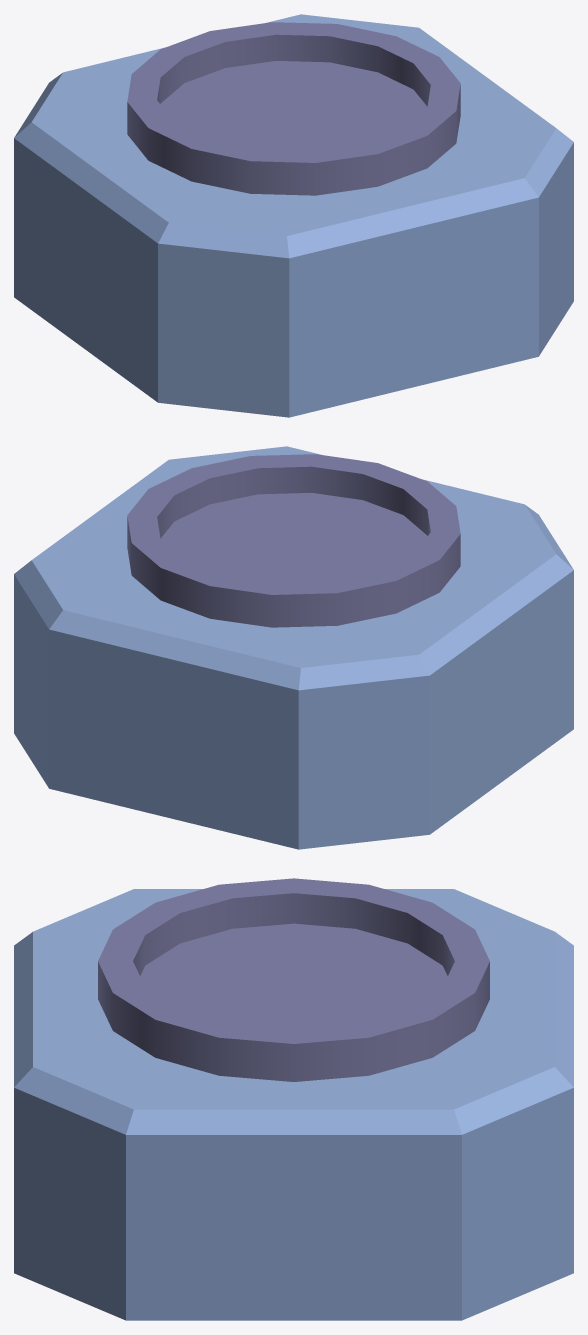
Rendered from buttonPlatform.gltf.
3 renders of one model, top to bottom at view 1: azimuth 30°, elevation 25°; view 2: azimuth 150°, elevation 25°; view 3: azimuth 270°, elevation 25°, orthographic. The views are drawn at different scales.
Parts seen in each view (by area): view 1: buttonPlat_geo, buttonBase_geo; view 2: buttonPlat_geo, buttonBase_geo; view 3: buttonPlat_geo, buttonBase_geo.
Boxes of the visible parts, x1,y1,x2,y2 form: buttonPlat_geo: (14, 14, 573, 417); buttonBase_geo: (127, 22, 460, 195); buttonPlat_geo: (14, 446, 573, 849); buttonBase_geo: (127, 454, 460, 627); buttonPlat_geo: (14, 889, 573, 1320); buttonBase_geo: (98, 878, 489, 1081).
Bounding box in the file's own units: 2 × 0.95 × 2.
